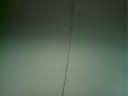window: (2, 2, 127, 94)
